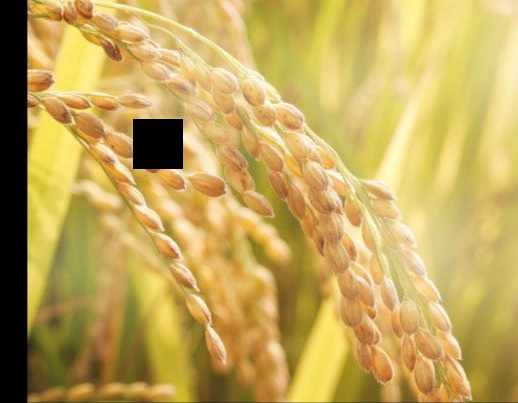rice: (33, 1, 461, 402)
